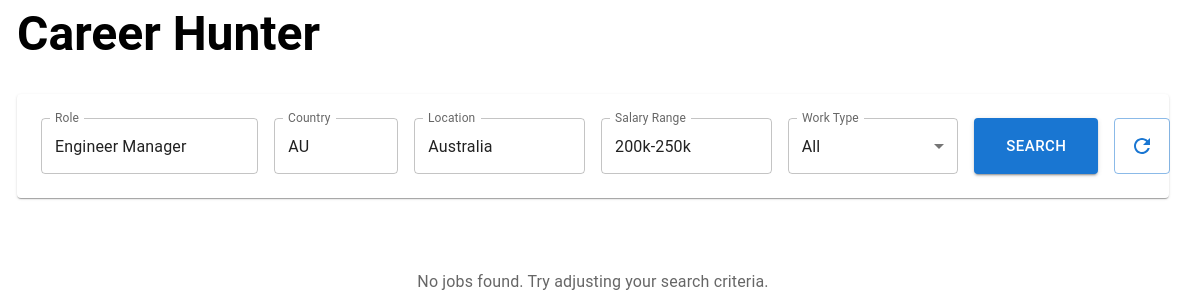
App › shows loading state when searching
Step 1. Click the button "Search" → (1036,146), box [974, 118, 1098, 174]
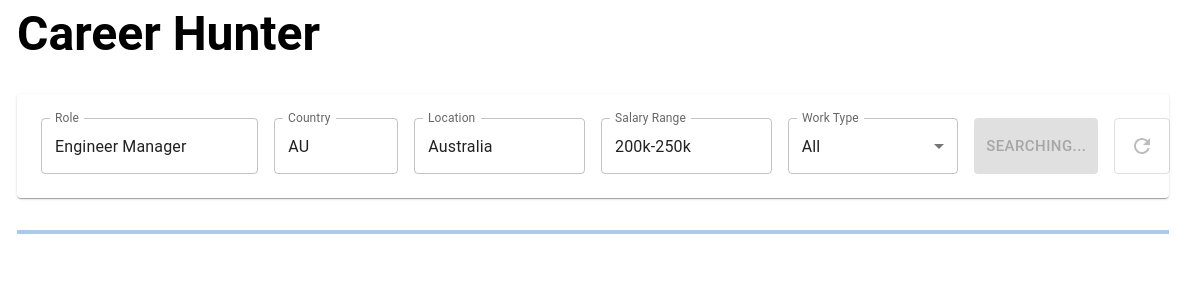
Check: the button "Searching..." is disabled, box [974, 118, 1098, 174]
